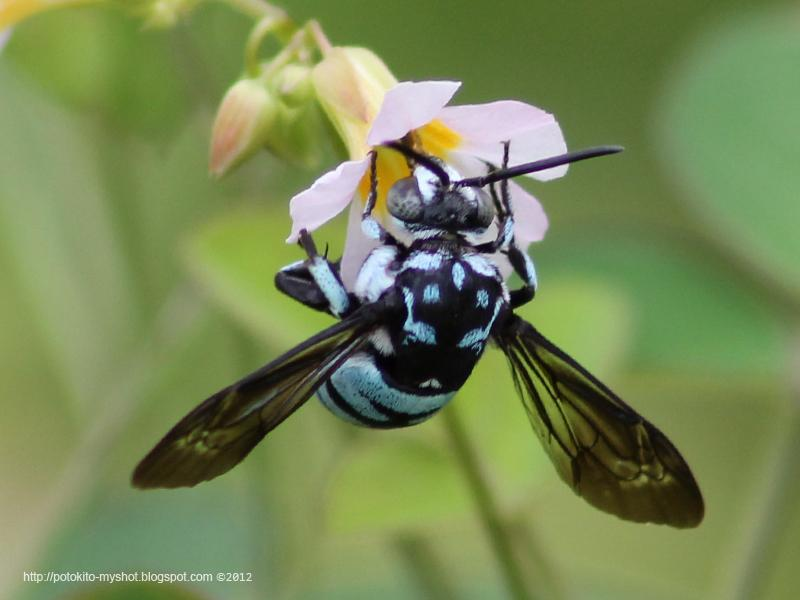Thyreus: (123, 130, 712, 538)
